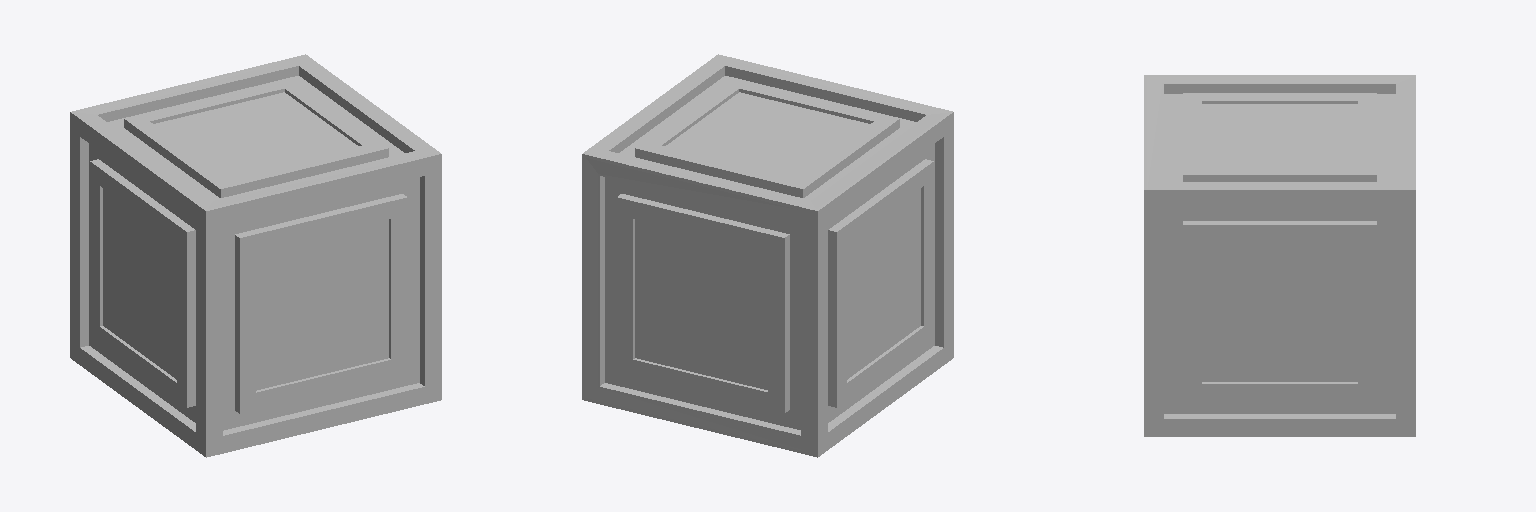
Rendered from Rock Cube.obj.
The picture shows the model from 3 angles: view 1: azimuth 30°, elevation 25°; view 2: azimuth 150°, elevation 25°; view 3: azimuth 270°, elevation 25°; orthographic projection.
Parts seen in each view (by area): view 1: pCube24; view 2: pCube24; view 3: pCube24.
Part boxes in pixels (x1,y1,x2,y2): pCube24: (70, 54, 441, 457); pCube24: (582, 54, 953, 457); pCube24: (1144, 75, 1415, 436).
Bounding box in the file's own units: 1 × 1 × 1.